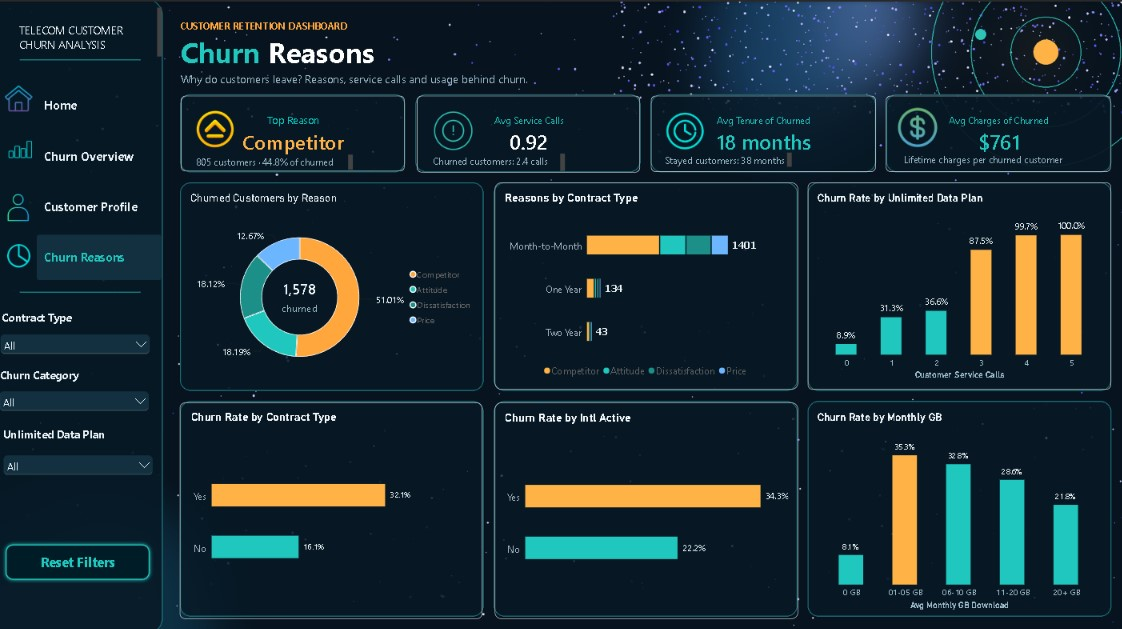

This screenshot's page, from the dashboard's own definition file:
{"tool":"powerbi","page":{"name":"Churn Reasons","canvas":[1920,1080],"ordinal":3},"visuals":[{"type":"cardVisual","fields":{"Data":["Churn data.Avg Tenure of Churned"]},"box":[1112.2,159.9,383,130],"z":0},{"type":"cardVisual","fields":{"Data":["Churn data.Top Reason"]},"box":[312.9,160,381.2,129.5],"z":1000},{"type":"cardVisual","fields":{"Data":["Churn data.Avg Service Calls"]},"box":[714.1,159.9,380.9,132],"z":2000},{"type":"cardVisual","fields":{"Data":["Churn data.Avg Charges of Churned"]},"box":[1512.7,159.9,383,130],"z":3000},{"type":"textbox","box":[1135.9,256.5,215.6,31.6],"z":4000},{"type":"textbox","box":[1543,256.5,295.6,31.6],"z":5000},{"type":"textbox","box":[338.4,259.9,266.9,33.1],"z":6000},{"type":"textbox","box":[741.8,257.8,225,34.9],"z":7000},{"type":"image","box":[1528.1,176.6,78.1,74.4],"z":8000},{"type":"clusteredBarChart","title":"Churn Rate by Contract Type","fields":{"Category":["Churn data.Unlimited Data Plan"],"Y":["Churn data.Churn Rate"]},"box":[312,682,514.5,368],"z":9000},{"type":"barChart","title":"Reasons by Contract Type","fields":{"Category":["Churn data.Contract Type"],"Series":["Churn data.Churn Category"],"Y":["Churn data.Churned Customers for calc"]},"box":[847.7,308.7,516.3,352.3],"z":10000},{"type":"clusteredBarChart","title":"Churn Rate by Intl Active","fields":{"Category":["Churn data.Intl Active"],"Y":["Churn data.Churn Rate"]},"box":[847.7,682,516.3,368],"z":11000},{"type":"donutChart","title":"Churned Customers by Reason","fields":{"Category":["Churn data.Churn Category"],"Y":["Churn data.Churned Customers for calc"]},"box":[312.2,310.5,514.5,350.6],"z":12000},{"type":"clusteredColumnChart","title":"Churn Rate by Unlimited Data Plan","fields":{"Category":["Churn data.Customer Service Calls"],"Y":["Churn data.Churn Rate"]},"box":[1379.7,308.7,516.3,352.3],"z":13000},{"type":"clusteredColumnChart","title":"Churn Rate by Monthly GB","fields":{"Category":["Churn data.GB Usage Group"],"Y":["Churn data.Churn Rate"]},"box":[1379.7,682,516.3,368],"z":14000},{"type":"textbox","box":[312.2,29.7,446.5,22.7],"z":15000},{"type":"textbox","box":[312.2,52.3,552.9,66.3],"z":16000},{"type":"textbox","box":[312.2,118.6,1105.8,41.9],"z":17000},{"type":"textbox","box":[0,10.5,280.8,89],"z":18000},{"type":"shape","box":[38.4,85.5,205.8,27.9],"z":19000},{"type":"image","box":[0,141.6,75,47.1],"z":20000},{"type":"image","box":[0,216.6,80.2,69.8],"z":21000},{"type":"image","box":[5.2,323,62.8,54.1],"z":22000},{"type":"image","box":[3.5,410.2,68,43.6],"z":23000},{"type":"shape","box":[38.4,484.9,205.8,19.2],"z":24000},{"type":"pageNavigator","box":[68,137.8,212.8,338.4],"z":25000},{"type":"slicer","fields":{"Values":["Churn data.Churn Category"]},"box":[0,659,263.4,54.1],"z":26000},{"type":"textbox","box":[5.2,622.3,263.4,36.6],"z":27000},{"type":"slicer","fields":{"Values":["Churn data.Contract Type"]},"box":[2.4,560.9,263.4,47.1],"z":28000},{"type":"textbox","box":[7.7,524.3,263.4,36.6],"z":29000},{"type":"slicer","fields":{"Values":["Churn data.Unlimited Data Plan"]},"box":[7,767.4,263.4,55.8],"z":30000},{"type":"textbox","box":[10.5,723.8,263.4,36.6],"z":31000},{"type":"actionButton","box":[8.7,917.4,258.1,73.3],"z":32000},{"type":"image","box":[336.6,179.7,69.8,71.5],"z":33000},{"type":"image","box":[741.3,176.2,69.8,85.5],"z":34000},{"type":"image","box":[1135.9,176.6,68.8,85.5],"z":35000}]}

Visuals, with their boxes on the page's 1920x1080 design canvas (x1, y1, x2, y2). These are canvas units, not pixel positions in the 1122x629 screenshot, which may show the page scaled, cropped or inside an application window:
cardVisual - Churn data.Avg Tenure of Churned: bbox(1112, 160, 1495, 290)
cardVisual - Churn data.Top Reason: bbox(313, 160, 694, 290)
cardVisual - Churn data.Avg Service Calls: bbox(714, 160, 1095, 292)
cardVisual - Churn data.Avg Charges of Churned: bbox(1513, 160, 1896, 290)
textbox: bbox(1136, 256, 1352, 288)
textbox: bbox(1543, 256, 1839, 288)
textbox: bbox(338, 260, 605, 293)
textbox: bbox(742, 258, 967, 293)
image: bbox(1528, 177, 1606, 251)
"Churn Rate by Contract Type" clusteredBarChart: bbox(312, 682, 826, 1050)
"Reasons by Contract Type" barChart: bbox(848, 309, 1364, 661)
"Churn Rate by Intl Active" clusteredBarChart: bbox(848, 682, 1364, 1050)
"Churned Customers by Reason" donutChart: bbox(312, 310, 827, 661)
"Churn Rate by Unlimited Data Plan" clusteredColumnChart: bbox(1380, 309, 1896, 661)
"Churn Rate by Monthly GB" clusteredColumnChart: bbox(1380, 682, 1896, 1050)
textbox: bbox(312, 30, 759, 52)
textbox: bbox(312, 52, 865, 119)
textbox: bbox(312, 119, 1418, 160)
textbox: bbox(0, 10, 281, 100)
shape: bbox(38, 86, 244, 113)
image: bbox(0, 142, 75, 189)
image: bbox(0, 217, 80, 286)
image: bbox(5, 323, 68, 377)
image: bbox(4, 410, 72, 454)
shape: bbox(38, 485, 244, 504)
pageNavigator: bbox(68, 138, 281, 476)
slicer - Churn data.Churn Category: bbox(0, 659, 263, 713)
textbox: bbox(5, 622, 269, 659)
slicer - Churn data.Contract Type: bbox(2, 561, 266, 608)
textbox: bbox(8, 524, 271, 561)
slicer - Churn data.Unlimited Data Plan: bbox(7, 767, 270, 823)
textbox: bbox(10, 724, 274, 760)
actionButton: bbox(9, 917, 267, 991)
image: bbox(337, 180, 406, 251)
image: bbox(741, 176, 811, 262)
image: bbox(1136, 177, 1205, 262)
